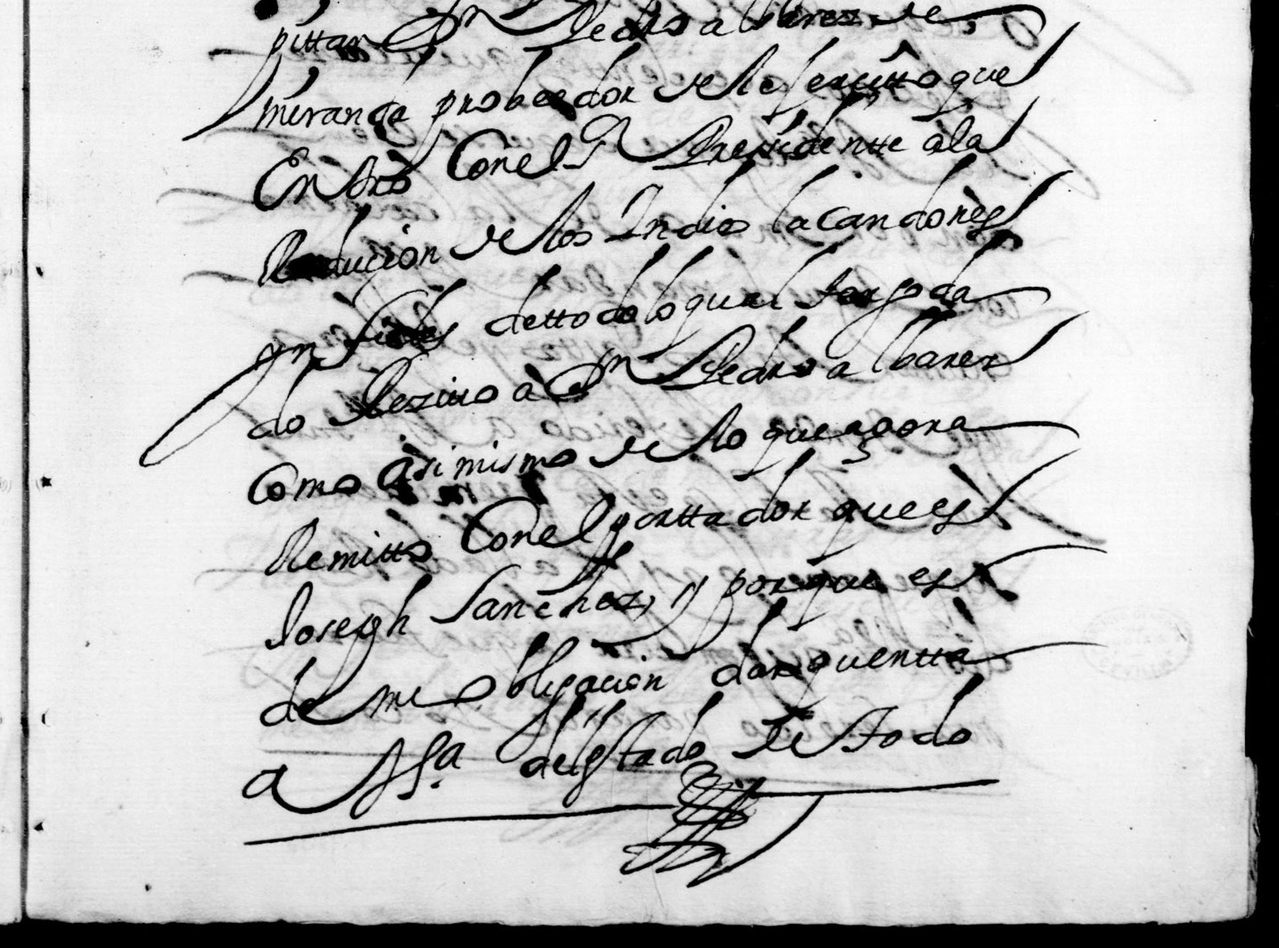lacandon: (771, 153, 1073, 241)
